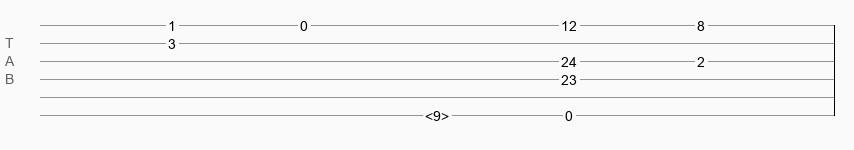0: (300, 18, 308, 28), (565, 108, 573, 118)
1: (168, 18, 176, 28)
12: (561, 18, 577, 28)
2: (697, 54, 705, 64)
23: (561, 72, 577, 82)
24: (561, 54, 577, 64)
3: (168, 36, 176, 46)
8: (697, 18, 705, 28)
harmonic: (425, 108, 449, 118)
